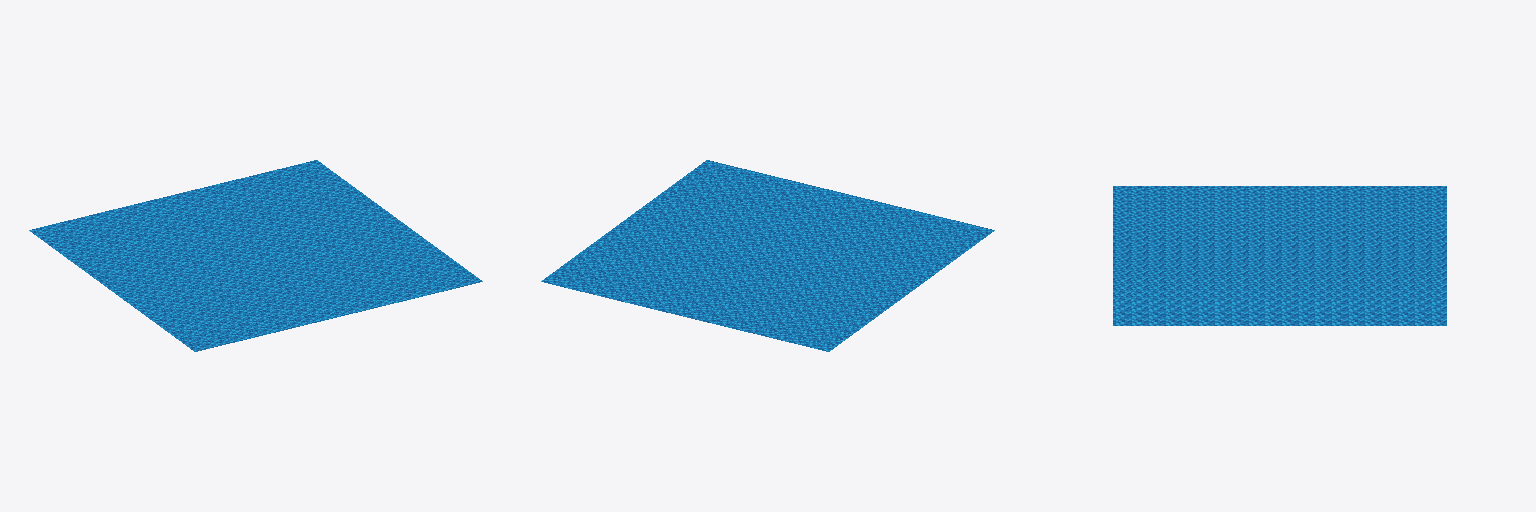
3 renders of one model, left to right at view 1: azimuth 30°, elevation 25°; view 2: azimuth 150°, elevation 25°; view 3: azimuth 270°, elevation 25°, orthographic.
Visible parts, largest first — view 1: Plane; view 2: Plane; view 3: Plane.
Boxes of the visible parts, <box> form: Plane: <box>29,160,482,351</box>; Plane: <box>541,160,994,351</box>; Plane: <box>1113,186,1446,325</box>.
Bounding box in the file's own units: 20 × 0 × 20.
Materials: 1 (1 with a texture image).